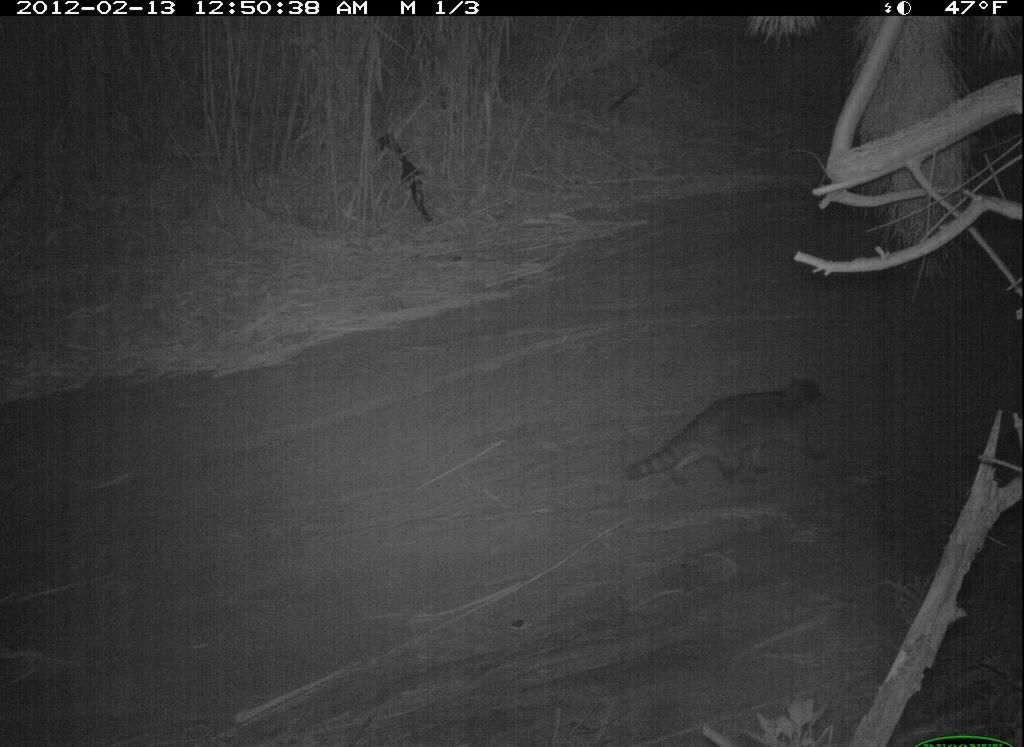raccoon: (610, 367, 847, 506)
